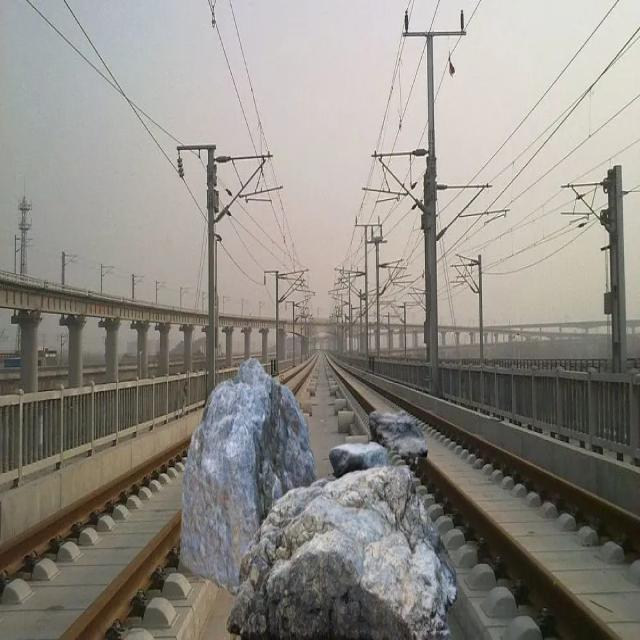Stone: (222, 461, 457, 640), (174, 358, 316, 589), (371, 399, 433, 465), (325, 436, 388, 478)
